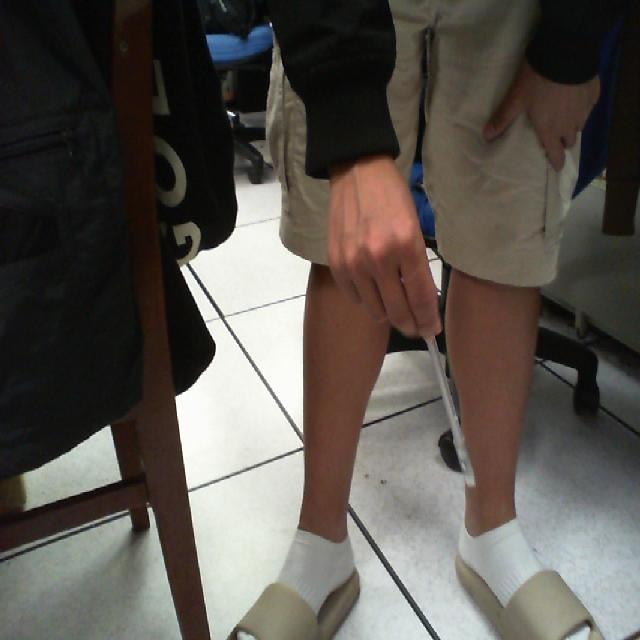Pen: (416, 323, 496, 515)
